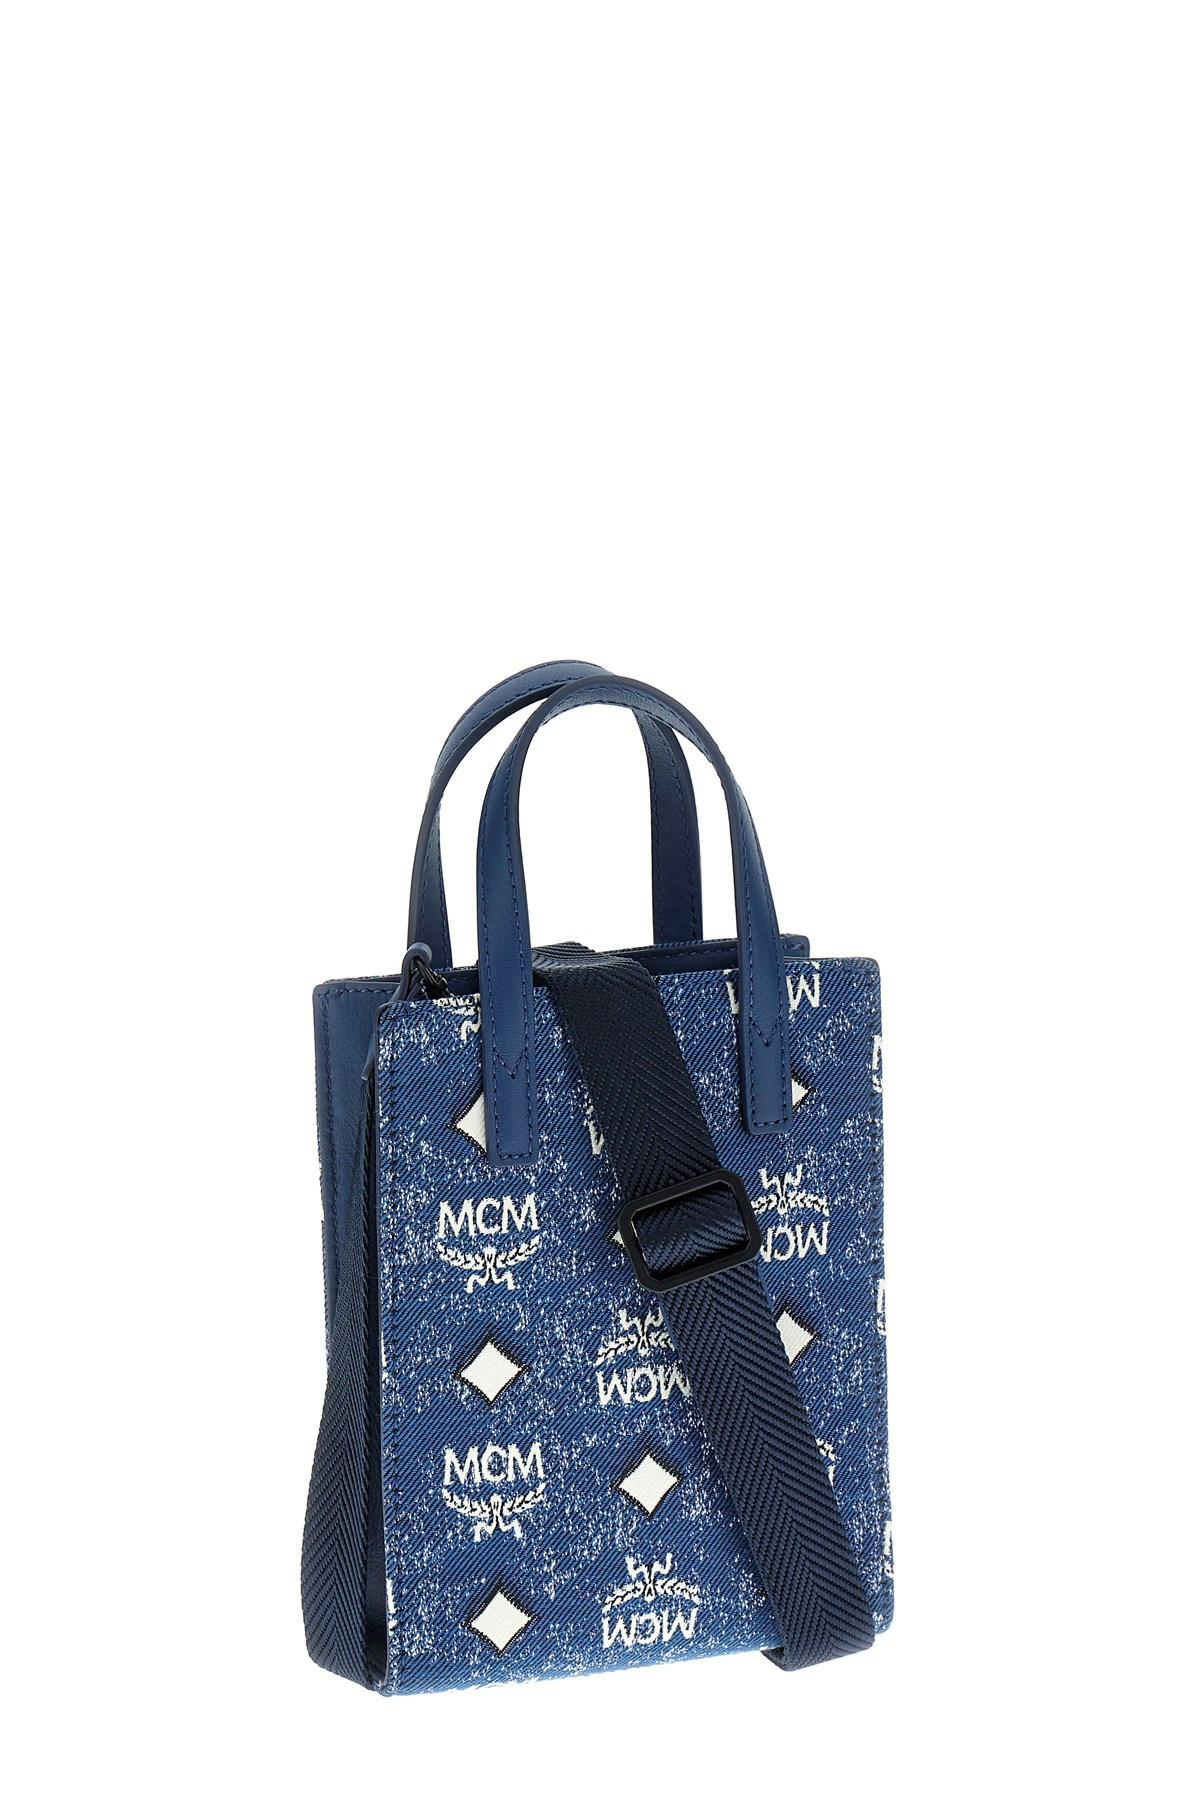MCM: (317, 956, 891, 1683)
